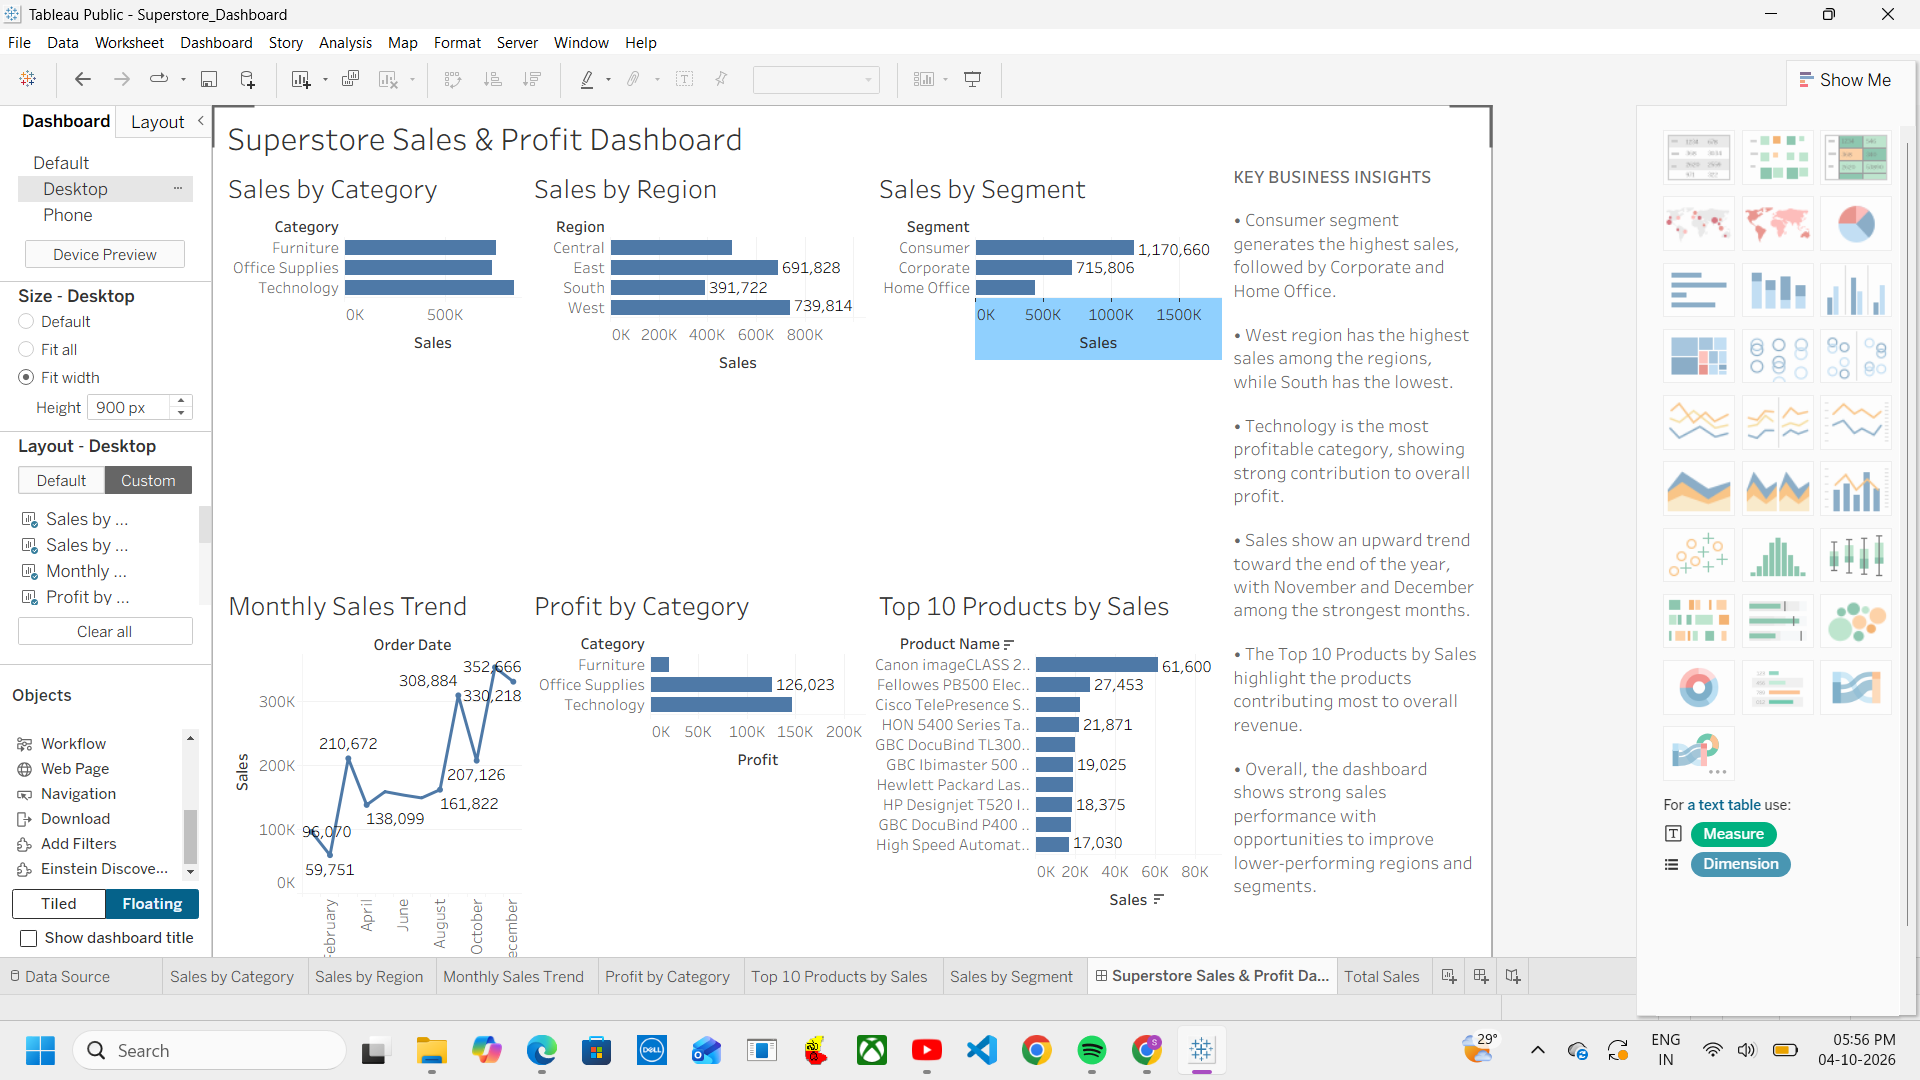

Layout of this report page (visuals, bound fields, positions):
{"tool":"tableau","page":{"name":"Superstore Sales & Profit Dashboard","canvas":[650,860],"ordinal":0},"visuals":[{"type":"worksheet","title":"Sales by Region","mark":"Automatic","rows":["Region"],"cols":["Sales"],"box":[8,8,158.5,844]},{"type":"worksheet","title":"Monthly Sales Trend","mark":"Automatic","rows":["Sales"],"cols":["Order Date"],"box":[166.5,8,158.5,844]},{"type":"worksheet","title":"Profit by Category","mark":"Automatic","rows":["Category"],"cols":["Profit"],"box":[325,8,158.5,844]},{"type":"worksheet","title":"Sales by Category","mark":"Automatic","rows":["Category"],"cols":["Sales"],"box":[483.5,8,79.3,844]},{"type":"worksheet","title":"Top 10 Products by Sales","mark":"Automatic","rows":["Product Name"],"cols":["Sales"],"box":[562.8,8,39.6,844]},{"type":"worksheet","title":"Sales by Segment","mark":"Automatic","rows":["Segment"],"cols":["Sales"],"box":[602.4,8,39.6,844]}]}

Visuals, with their boxes on the page's 650x860 design canvas (x1, y1, x2, y2). These are canvas units, not pixel positions in the 1920x1080 screenshot, which may show the page scaled, cropped or inside an application window:
"Sales by Region" worksheet: rect(8, 8, 166, 852)
"Monthly Sales Trend" worksheet: rect(166, 8, 325, 852)
"Profit by Category" worksheet: rect(325, 8, 484, 852)
"Sales by Category" worksheet: rect(484, 8, 563, 852)
"Top 10 Products by Sales" worksheet: rect(563, 8, 602, 852)
"Sales by Segment" worksheet: rect(602, 8, 642, 852)
